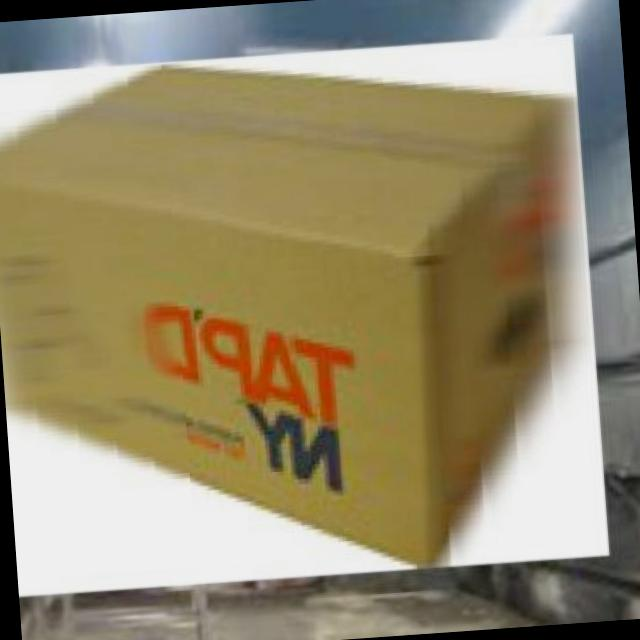box: (0, 24, 619, 607)
